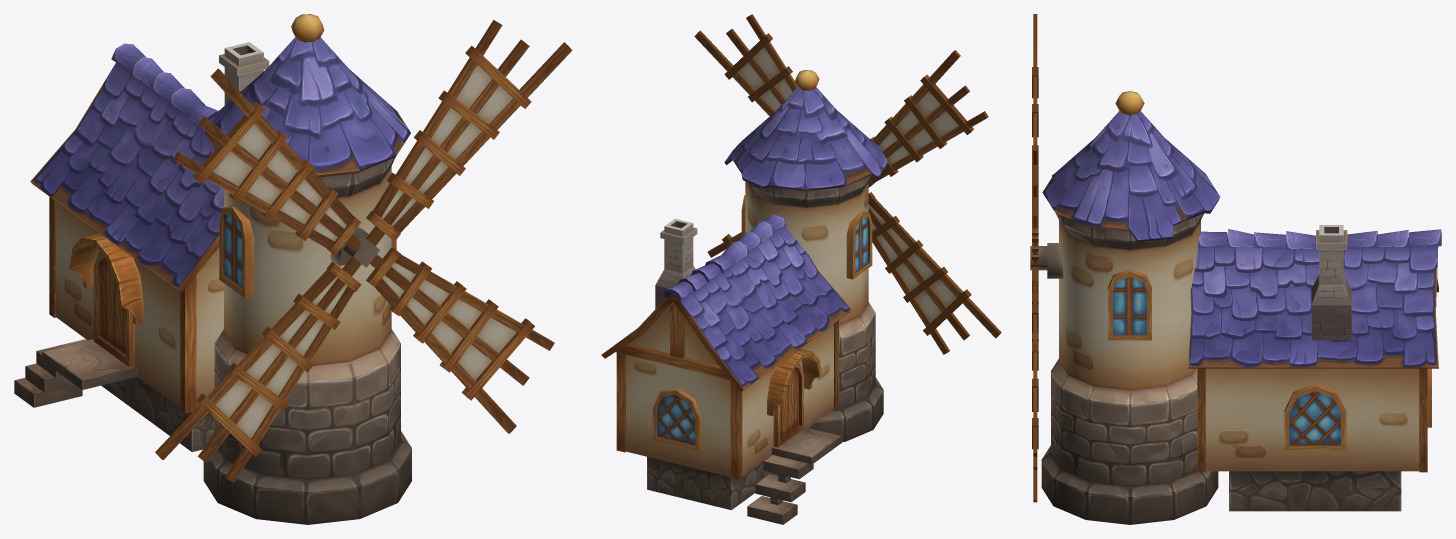
File: Mill.FBX
The picture shows the model from 3 angles, left to right: view 1: azimuth 30°, elevation 25°; view 2: azimuth 150°, elevation 25°; view 3: azimuth 270°, elevation 25°; orthographic projection. The views are drawn at different scales.
Visible parts, largest first — view 1: Mill, Mill_wings; view 2: Mill, Mill_wings; view 3: Mill, Mill_wings.
Part boxes in pixels (x1,y1,x2,y2): Mill: [14, 14, 411, 524]; Mill_wings: [155, 20, 572, 482]; Mill: [601, 70, 888, 524]; Mill_wings: [694, 14, 1001, 354]; Mill: [1041, 91, 1441, 524]; Mill_wings: [1030, 14, 1047, 502].
Size of the model in its own units: 10.28 by 11.54 by 10.39.
